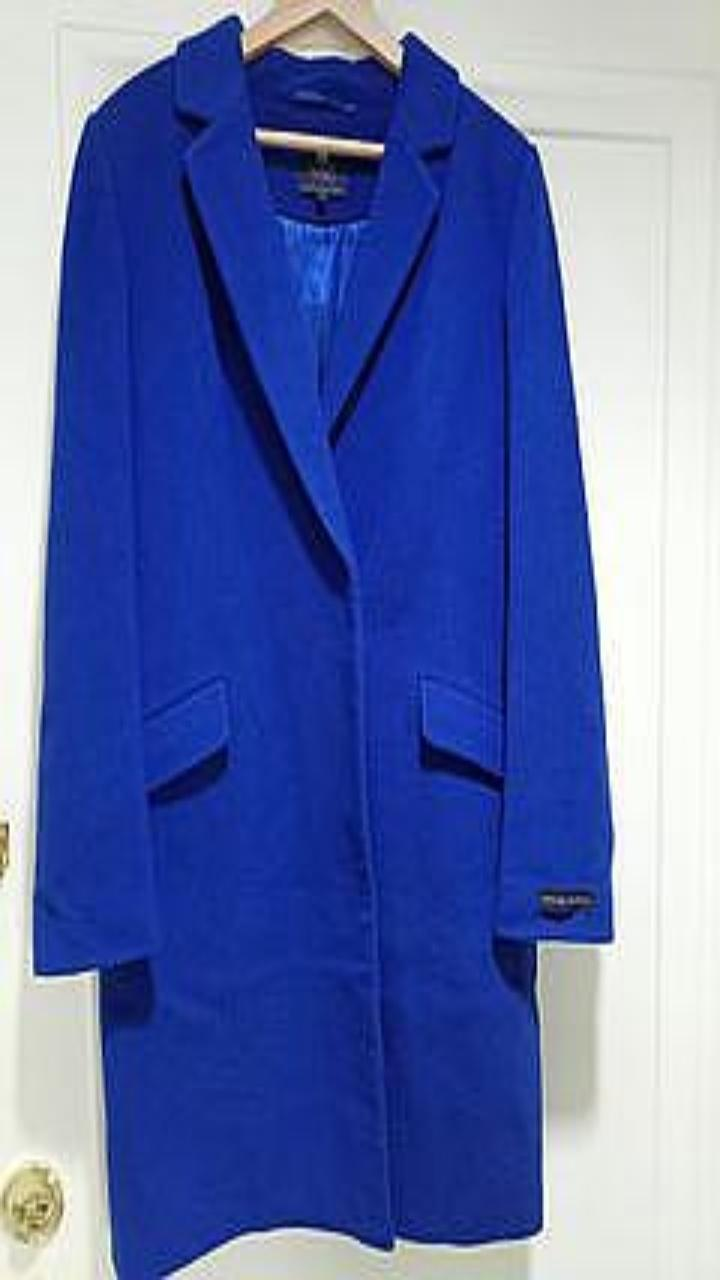Coat: (33, 15, 613, 1279)
